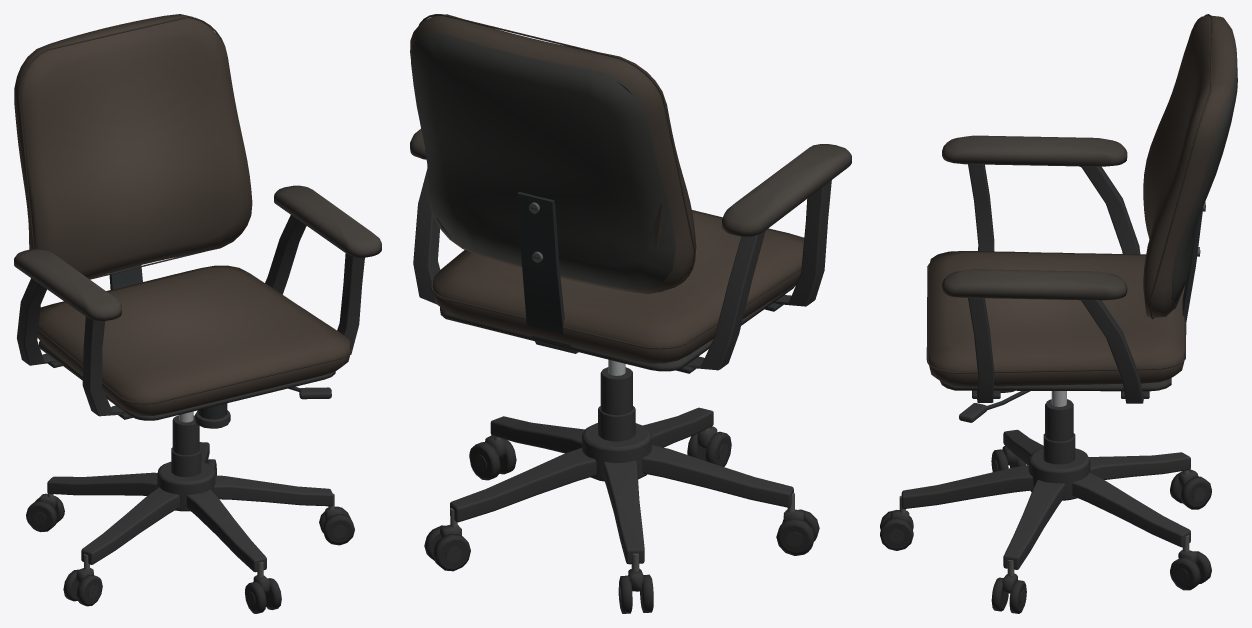
File: OfficeChair_SeparateCandidate_LOD1.fbx
3 views of the same model, side by side, from view 1: azimuth 30°, elevation 25°; view 2: azimuth 150°, elevation 25°; view 3: azimuth 270°, elevation 25° (orthographic). The views are drawn at different scales.
Parts seen in each view (by area): view 1: UpperSwivel_LOD1, Base_LOD1, CasterSwivel_5_LOD1, CasterSwivel_1_LOD1, CasterSwivel_2_LOD1, CasterSwivel_4_LOD1; view 2: UpperSwivel_LOD1, Base_LOD1, CasterSwivel_3_LOD1, CasterSwivel_5_LOD1, CasterSwivel_2_LOD1, CasterSwivel_4_LOD1, CasterSwivel_1_LOD1; view 3: UpperSwivel_LOD1, Base_LOD1, CasterSwivel_3_LOD1, CasterSwivel_4_LOD1, CasterSwivel_1_LOD1, CasterSwivel_2_LOD1, CasterSwivel_5_LOD1.
Boxes of the visible parts, <box> form: UpperSwivel_LOD1: <box>14,14,381,428</box>; Base_LOD1: <box>47,415,333,572</box>; CasterSwivel_5_LOD1: <box>63,554,102,606</box>; CasterSwivel_1_LOD1: <box>245,562,281,613</box>; CasterSwivel_2_LOD1: <box>319,493,354,545</box>; CasterSwivel_4_LOD1: <box>26,493,64,532</box>; UpperSwivel_LOD1: <box>410,14,851,375</box>; Base_LOD1: <box>450,367,793,564</box>; CasterSwivel_3_LOD1: <box>424,508,470,571</box>; CasterSwivel_5_LOD1: <box>776,492,819,555</box>; CasterSwivel_2_LOD1: <box>469,435,516,480</box>; CasterSwivel_4_LOD1: <box>618,553,653,613</box>; CasterSwivel_1_LOD1: <box>687,426,731,466</box>; UpperSwivel_LOD1: <box>926,14,1237,422</box>; Base_LOD1: <box>901,399,1190,569</box>; CasterSwivel_3_LOD1: <box>1170,535,1211,590</box>; CasterSwivel_4_LOD1: <box>1170,469,1211,509</box>; CasterSwivel_1_LOD1: <box>880,495,913,550</box>; CasterSwivel_2_LOD1: <box>991,560,1026,613</box>; CasterSwivel_5_LOD1: <box>991,446,1026,471</box>.
Bounding box in the file's own units: 0.65 × 0.9916 × 0.6514.
